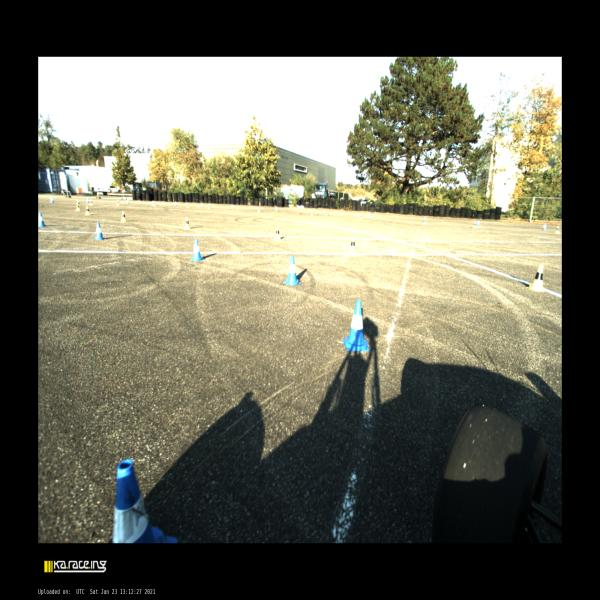blue_cone: (113, 460, 178, 543), (343, 301, 370, 351), (283, 256, 301, 286), (191, 239, 204, 261), (94, 222, 104, 240), (38, 212, 46, 227), (542, 224, 547, 230), (50, 196, 54, 203), (476, 219, 480, 226), (322, 209, 326, 215), (86, 197, 89, 203), (275, 206, 278, 212), (368, 212, 370, 218), (127, 199, 129, 204), (175, 201, 177, 206), (152, 200, 154, 205), (201, 203, 203, 207), (232, 204, 234, 208)
yellow_cone: (526, 264, 546, 292), (348, 236, 357, 255), (274, 225, 280, 240), (183, 217, 190, 229), (121, 211, 126, 222), (85, 206, 90, 214), (76, 203, 81, 211), (555, 226, 560, 233), (89, 199, 93, 206), (76, 200, 80, 207), (423, 216, 426, 225), (473, 221, 476, 228), (116, 200, 120, 205), (186, 203, 190, 208), (208, 204, 211, 210), (310, 210, 313, 216), (359, 213, 362, 219), (153, 201, 156, 206), (258, 207, 260, 213)
